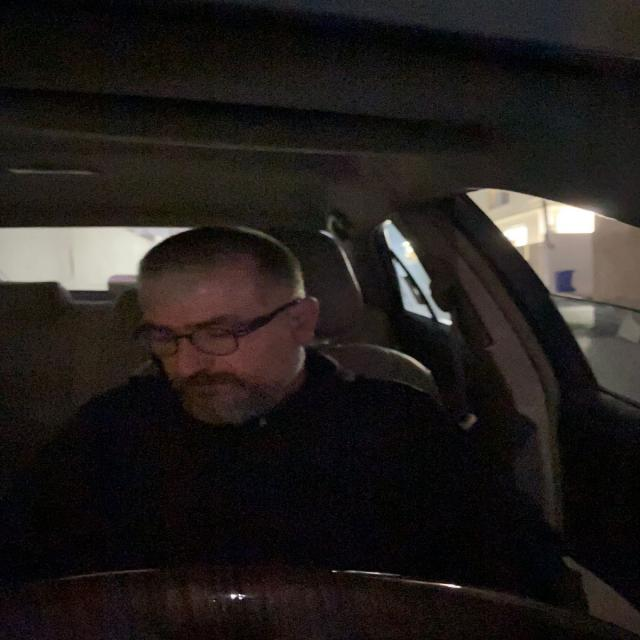drowsy: (121, 221, 322, 432)
